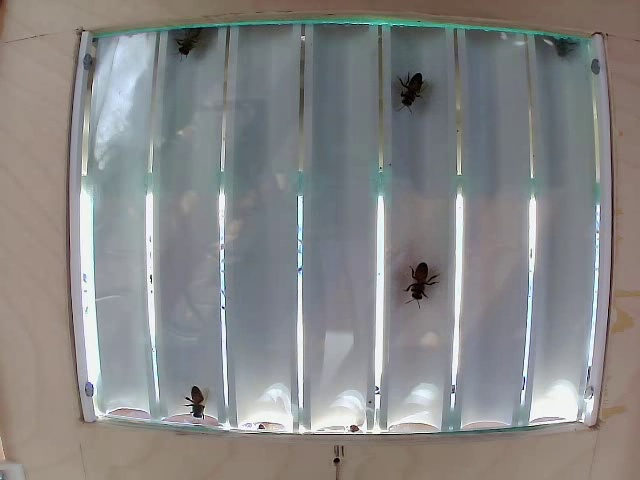bee: (386, 66, 428, 117), (403, 277, 423, 316)
